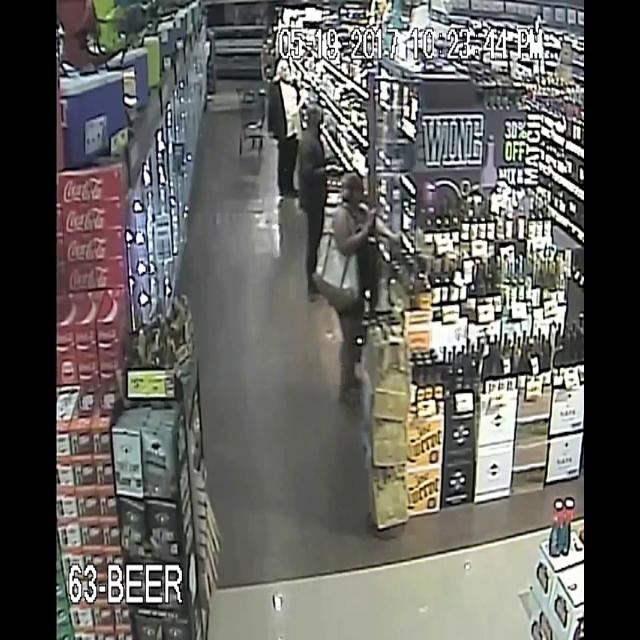Product: (395, 225, 416, 261)
normal: (264, 49, 306, 172), (296, 86, 338, 174)
shoplifting: (315, 170, 417, 425)
